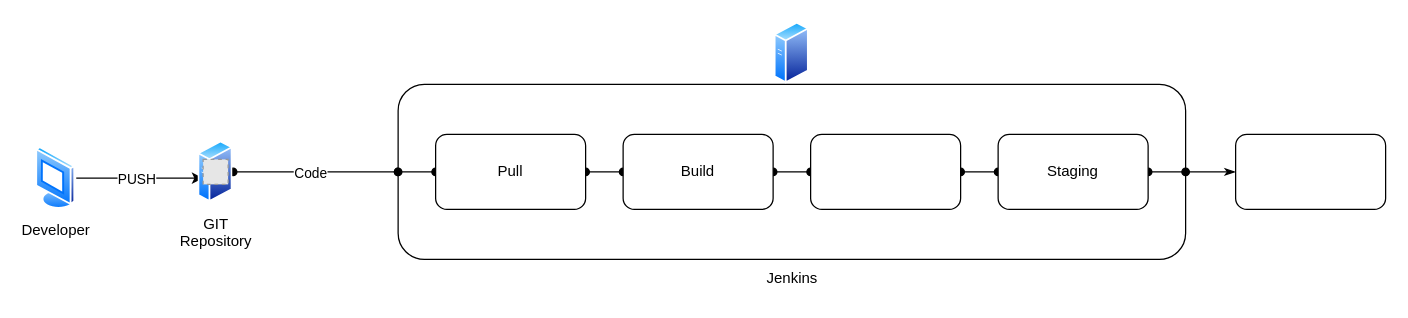
Image size: 1408x318. Some labels were removed from this diagram. Grey dashed boxes stand in for pictures. The box of each missing label's shape, as (x1, y1, x2, y2) in pixels:
Production: (1234, 133, 1386, 209)
Test: (809, 133, 961, 209)
